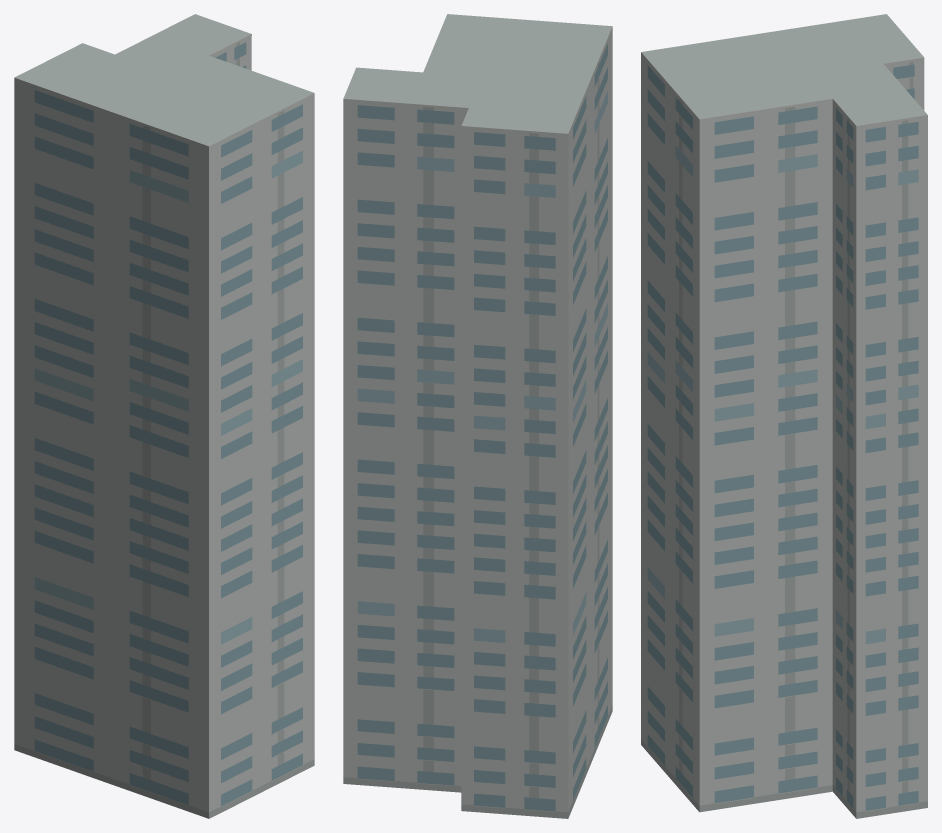
File: residential-bce3fee3-b118-4456-8715-7f29036e7d73.glb
3 renders of one model, left to right at view 1: azimuth 30°, elevation 25°; view 2: azimuth 150°, elevation 25°; view 3: azimuth 270°, elevation 25°, orthographic. The views are drawn at different scales.
Parts seen in each view (by area): view 1: residential-bce3fee3-b118-4456-8715-7f29036e7d73.tmp; view 2: residential-bce3fee3-b118-4456-8715-7f29036e7d73.tmp; view 3: residential-bce3fee3-b118-4456-8715-7f29036e7d73.tmp.
Boxes of the visible parts, bbox=[...] form: residential-bce3fee3-b118-4456-8715-7f29036e7d73.tmp: bbox=[14, 14, 314, 818]; residential-bce3fee3-b118-4456-8715-7f29036e7d73.tmp: bbox=[343, 14, 612, 818]; residential-bce3fee3-b118-4456-8715-7f29036e7d73.tmp: bbox=[641, 14, 927, 818].
Size of the model in its own units: 28.45 by 82 by 30.77.
